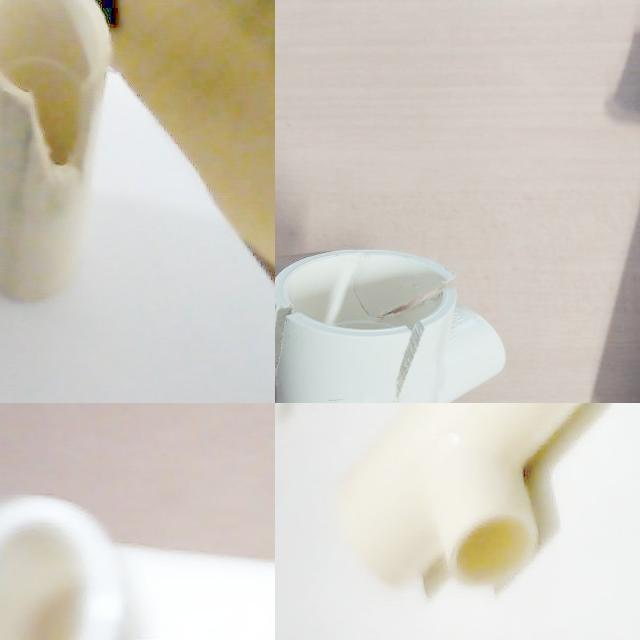Defective: (20, 69, 98, 187), (375, 317, 462, 403), (407, 262, 501, 332), (275, 304, 334, 364)
T Joint: (337, 403, 587, 600), (0, 497, 275, 640)
